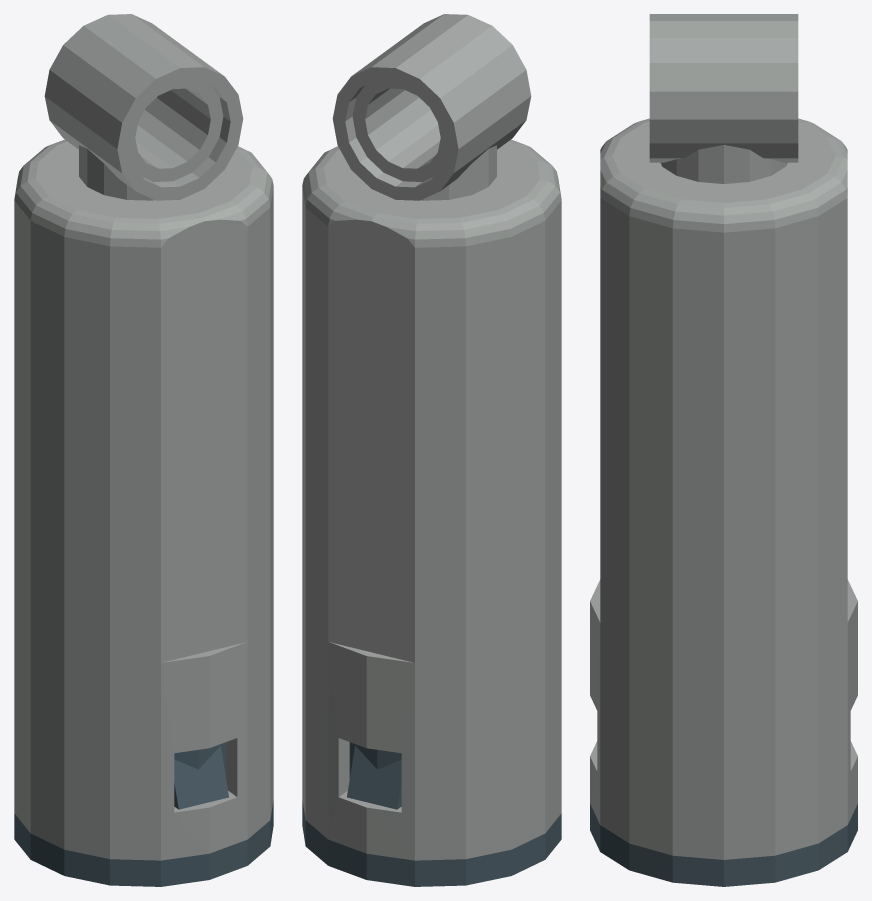
3 views of the same model, side by side, from view 1: azimuth 30°, elevation 25°; view 2: azimuth 150°, elevation 25°; view 3: azimuth 270°, elevation 25° (orthographic). The views are drawn at different scales.
Parts seen in each view (by area): view 1: world; view 2: world; view 3: world.
Boxes of the visible parts, x1=… form: world: x1=14, y1=14, x2=273, y2=886; world: x1=302, y1=14, x2=561, y2=886; world: x1=590, y1=14, x2=857, y2=886.
Size of the model in its own units: 0.0144 by 0.048 by 0.0144.
